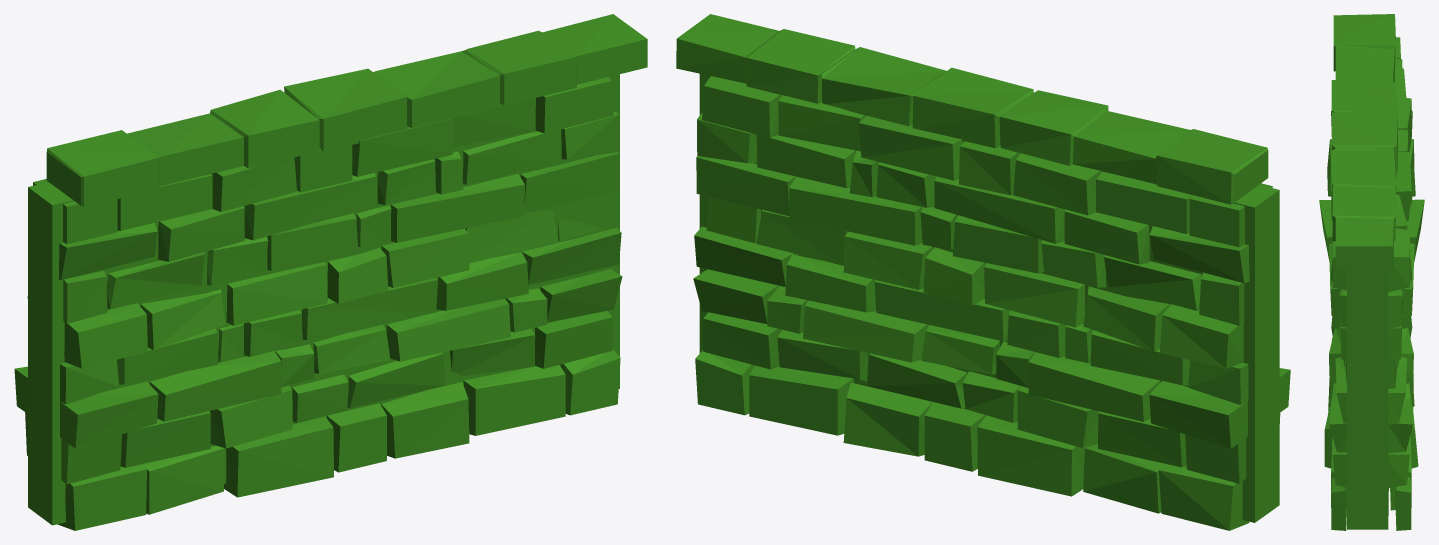
The model's file is BrickRows.fbx.
3 renders of one model, left to right at view 1: azimuth 30°, elevation 25°; view 2: azimuth 150°, elevation 25°; view 3: azimuth 270°, elevation 25°, orthographic. The views are drawn at different scales.
Visible parts, largest first — view 1: BrickRows14, WallTops; view 2: BrickRows14, WallTops; view 3: BrickRows14, WallTops.
Boxes of the visible parts, x1,y1,x2,y2 form: BrickRows14: [14, 74, 622, 530]; WallTops: [46, 14, 647, 207]; BrickRows14: [693, 73, 1290, 530]; WallTops: [676, 14, 1268, 204]; BrickRows14: [1319, 37, 1424, 530]; WallTops: [1331, 14, 1397, 271].
Size of the model in its own units: 1618 by 955 by 302.
